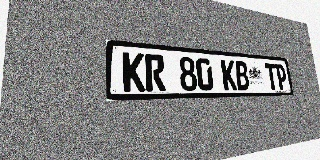0: (195, 58, 214, 91)
8: (178, 56, 198, 91)
B: (234, 61, 250, 90)
K: (122, 52, 145, 92), (221, 60, 237, 90)
P: (275, 64, 288, 90)
R: (145, 54, 166, 91)
T: (264, 63, 278, 90)
